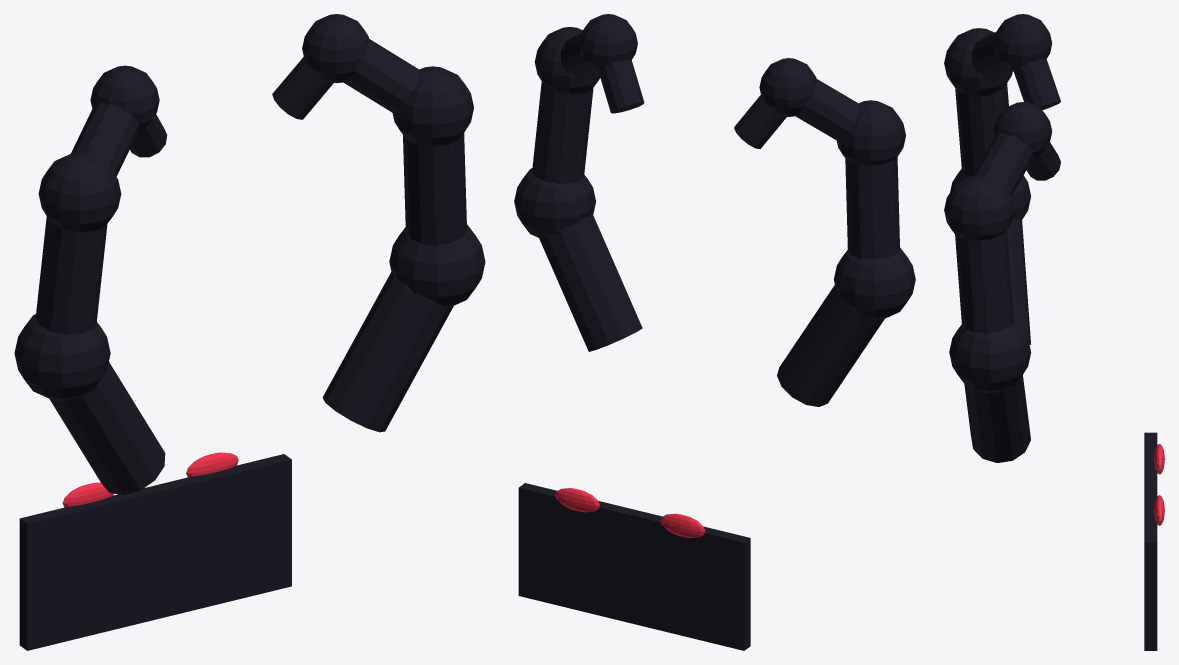
The model's file is AntiArmorHead.obj.
3 views of the same model, side by side, from view 1: azimuth 30°, elevation 25°; view 2: azimuth 150°, elevation 25°; view 3: azimuth 270°, elevation 25° (orthographic). The views are drawn at different scales.
Visible parts, largest first — view 1: AntiArmorHead; view 2: AntiArmorHead; view 3: AntiArmorHead.
Part boxes in pixels (x1,y1,x2,y2): AntiArmorHead: [14, 14, 485, 650]; AntiArmorHead: [514, 14, 915, 650]; AntiArmorHead: [944, 14, 1164, 650].
Size of the model in its own units: 2.08 by 2.72 by 1.02.
